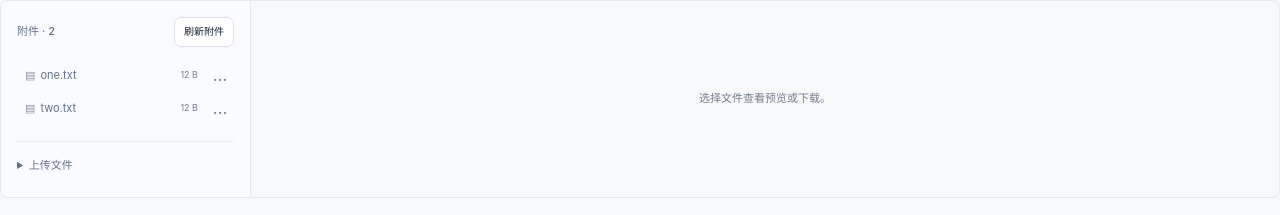
Test: task attachments › keeps embedded file selection local without writing address or browser history
Click the button "▤ one.txt 12 B" at (112, 75), box [17,58,206,92]
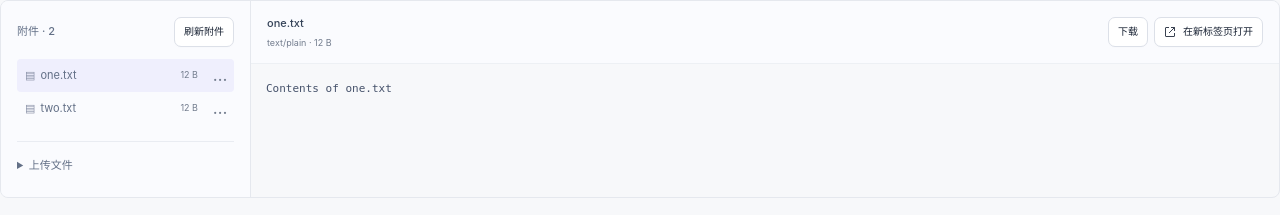
Expected: the text "Contents of one.txt" is shown, [266,82,392,95]
Click the button "▤ two.txt 12 B" at (112, 108), box [17,92,206,124]
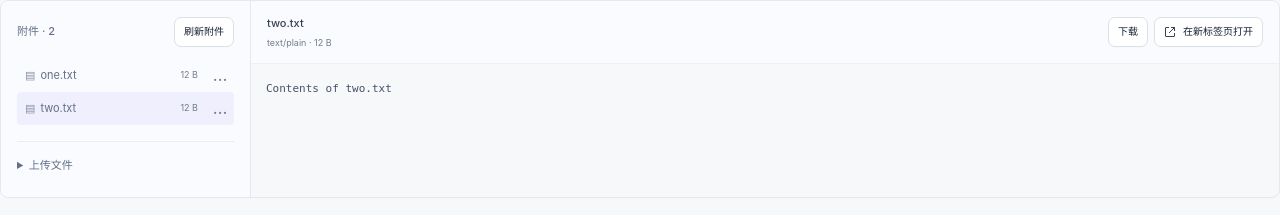
Expected: the text "Contents of two.txt" is shown, [266,82,392,95]
